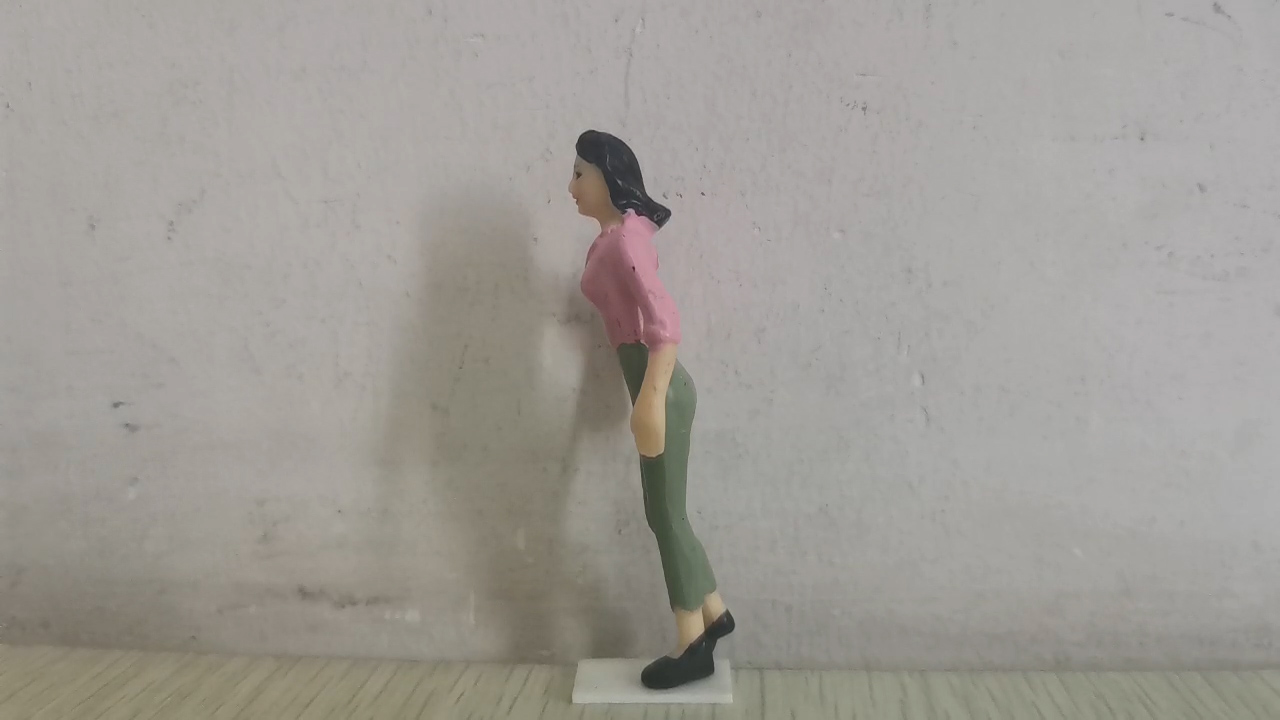person: (565, 128, 739, 692)
